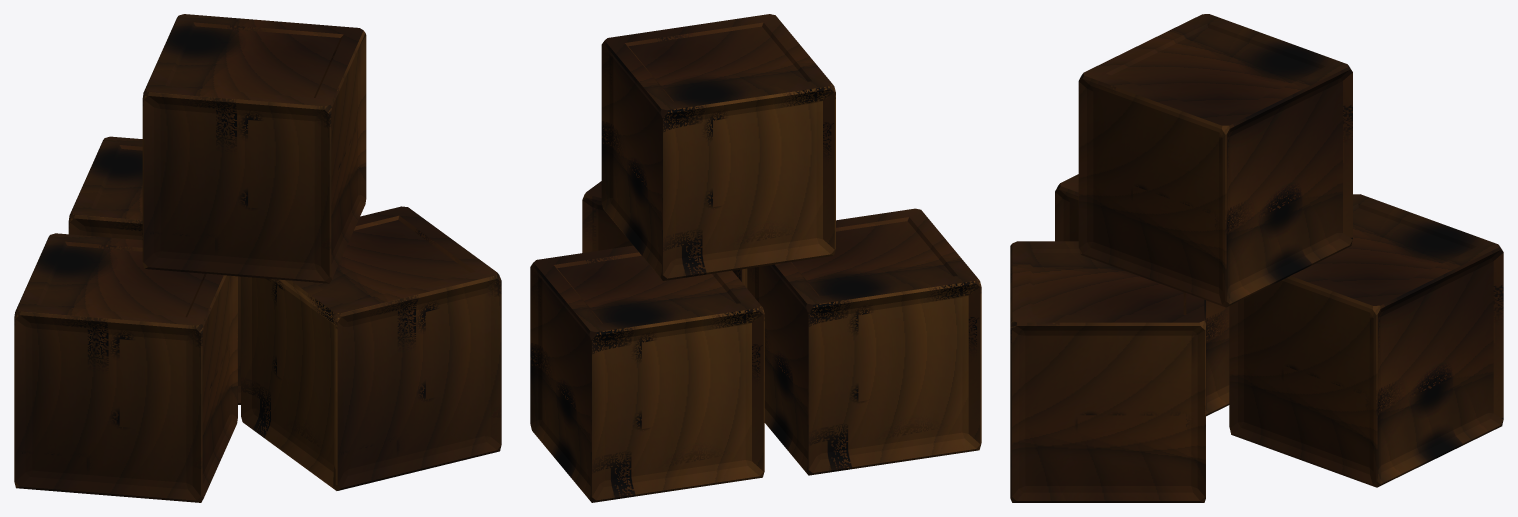
The model's file is Crate._group.glb.
3 views of the same model, side by side, from view 1: azimuth 30°, elevation 25°; view 2: azimuth 150°, elevation 25°; view 3: azimuth 270°, elevation 25° (orthographic). The views are drawn at different scales.
Visible parts, largest first — view 1: Cube, Cube.003, Cube.001, Cube.002; view 2: Cube.003, Cube.002, Cube.001, Cube; view 3: Cube.003, Cube.002, Cube, Cube.001.
Boxes of the visible parts, x1=… form: Cube: x1=241, y1=206, x2=501, y2=490; Cube.003: x1=142, y1=14, x2=366, y2=283; Cube.001: x1=14, y1=233, x2=237, y2=502; Cube.002: x1=68, y1=136, x2=240, y2=404; Cube.003: x1=601, y1=14, x2=835, y2=280; Cube.002: x1=530, y1=245, x2=764, y2=502; Cube.001: x1=747, y1=208, x2=981, y2=475; Cube: x1=582, y1=181, x2=747, y2=288; Cube.003: x1=1078, y1=14, x2=1352, y2=307; Cube.002: x1=1229, y1=194, x2=1503, y2=487; Cube: x1=1010, y1=241, x2=1205, y2=502; Cube.001: x1=1055, y1=174, x2=1229, y2=416.
Size of the model in its own units: 2.8 by 2.35 by 2.91.
Materials: 4 (4 with a texture image).
